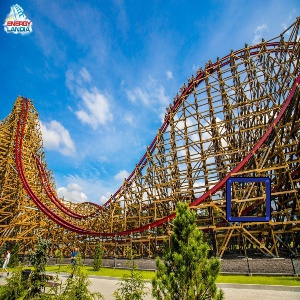square: (225, 176, 271, 222)
